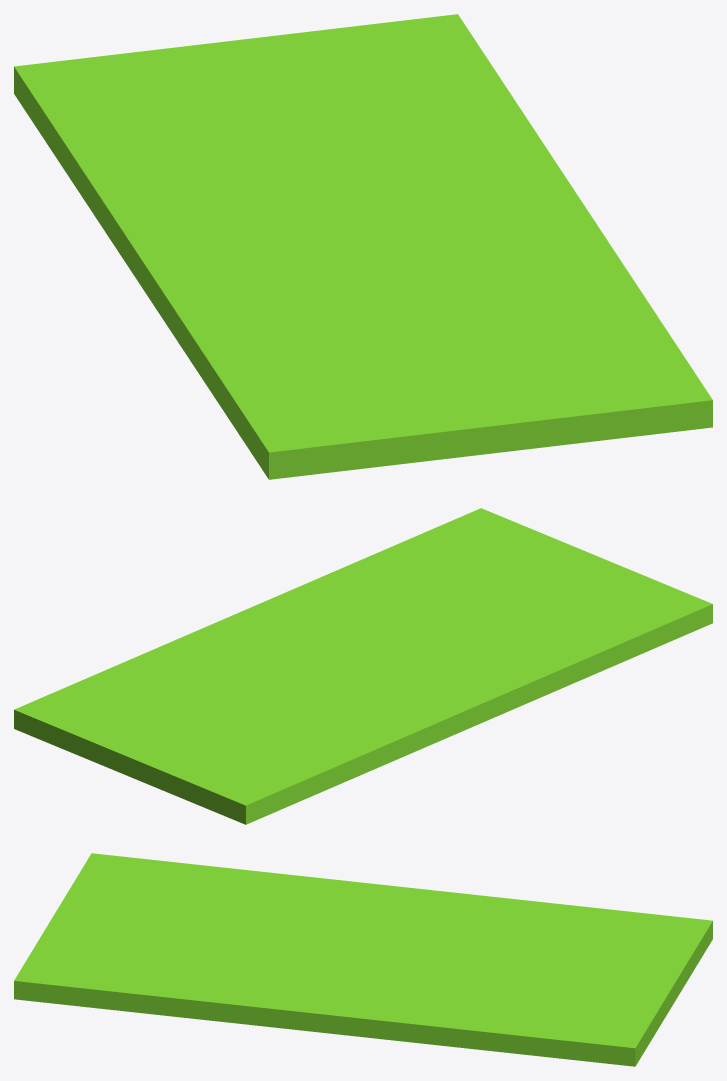
File: Towel2.fbx
3 renders of one model, top to bottom at view 1: azimuth 30°, elevation 25°; view 2: azimuth 150°, elevation 25°; view 3: azimuth 270°, elevation 25°, orthographic. The views are drawn at different scales.
Visible parts, largest first — view 1: Towel2; view 2: Towel2; view 3: Towel2.
Part boxes in pixels (x1,y1,x2,y2): Towel2: [14, 14, 712, 479]; Towel2: [14, 508, 712, 824]; Towel2: [14, 853, 712, 1066].
Size of the model in its own units: 1.22 by 0.0536 by 1.84.
